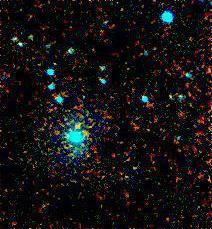star: (62, 112, 92, 142)
